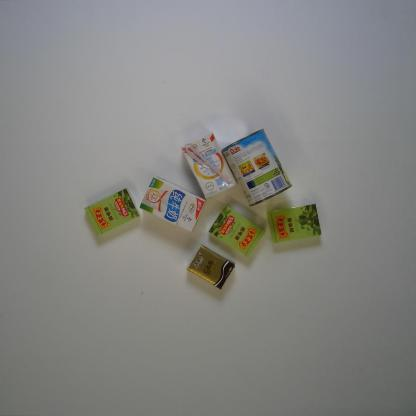Candy: (208, 204, 265, 258), (83, 188, 140, 237), (267, 203, 322, 245)
Canned Food: (221, 127, 292, 207)
Milk: (139, 176, 205, 233), (181, 132, 237, 199)
Tissue: (187, 244, 235, 290)
